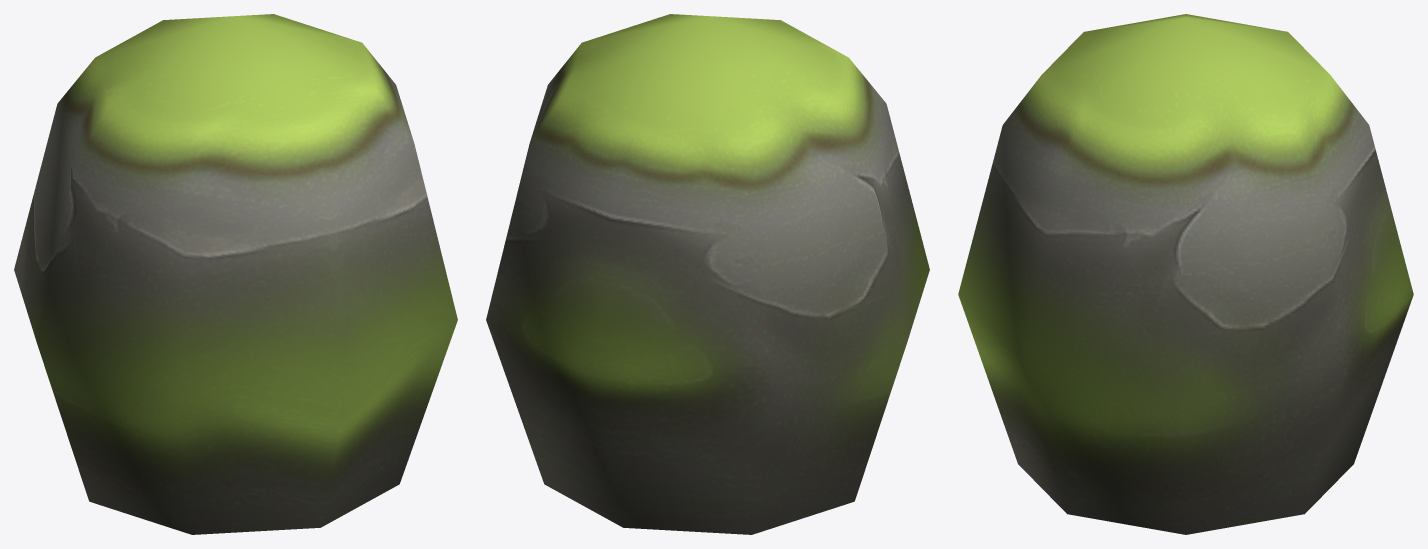
File: Bigmap_dibiao_shitou02.FBX
3 views of the same model, side by side, from view 1: azimuth 30°, elevation 25°; view 2: azimuth 150°, elevation 25°; view 3: azimuth 270°, elevation 25° (orthographic).
Parts seen in each view (by area): view 1: Cylinder04; view 2: Cylinder04; view 3: Cylinder04.
Boxes of the visible parts, x1,y1,x2,y2 form: Cylinder04: (14, 14, 457, 534); Cylinder04: (486, 14, 929, 534); Cylinder04: (958, 14, 1413, 534).
Bounding box in the file's own units: 22.92 × 24.75 × 22.92.
